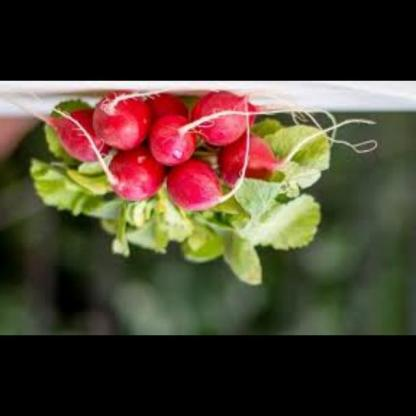rediska: (44, 101, 113, 166), (190, 88, 257, 149), (92, 92, 152, 154), (161, 158, 224, 211), (106, 148, 166, 202), (216, 134, 278, 186), (146, 117, 197, 168), (141, 92, 189, 131)
